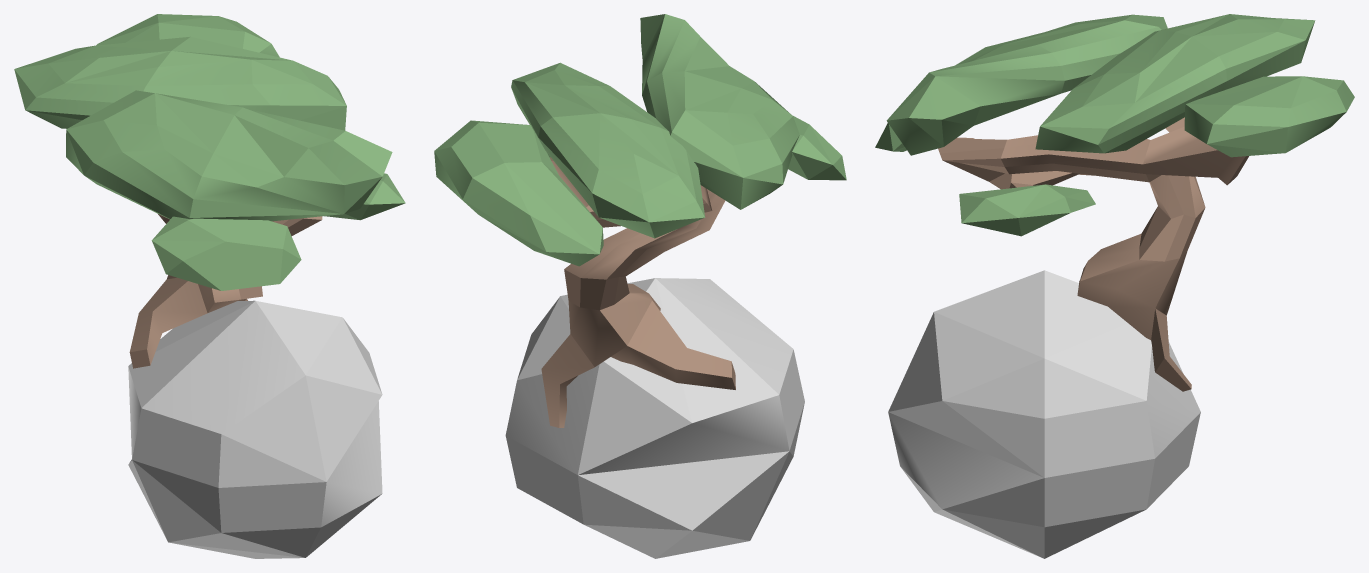
File: Tree02Decimated.fbx
3 views of the same model, side by side, from view 1: azimuth 30°, elevation 25°; view 2: azimuth 150°, elevation 25°; view 3: azimuth 270°, elevation 25° (orthographic). The views are drawn at different scales.
Parts seen in each view (by area): view 1: polySurface1; view 2: polySurface1; view 3: polySurface1.
Part boxes in pixels (<box>): polySurface1: <box>14,14,405,558</box>; polySurface1: <box>434,14,846,558</box>; polySurface1: <box>875,14,1354,558</box>.
Size of the model in its own units: 0.7912 by 1.31 by 1.12.
